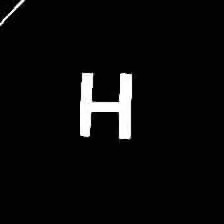LTR_H: (72, 65, 136, 141)
